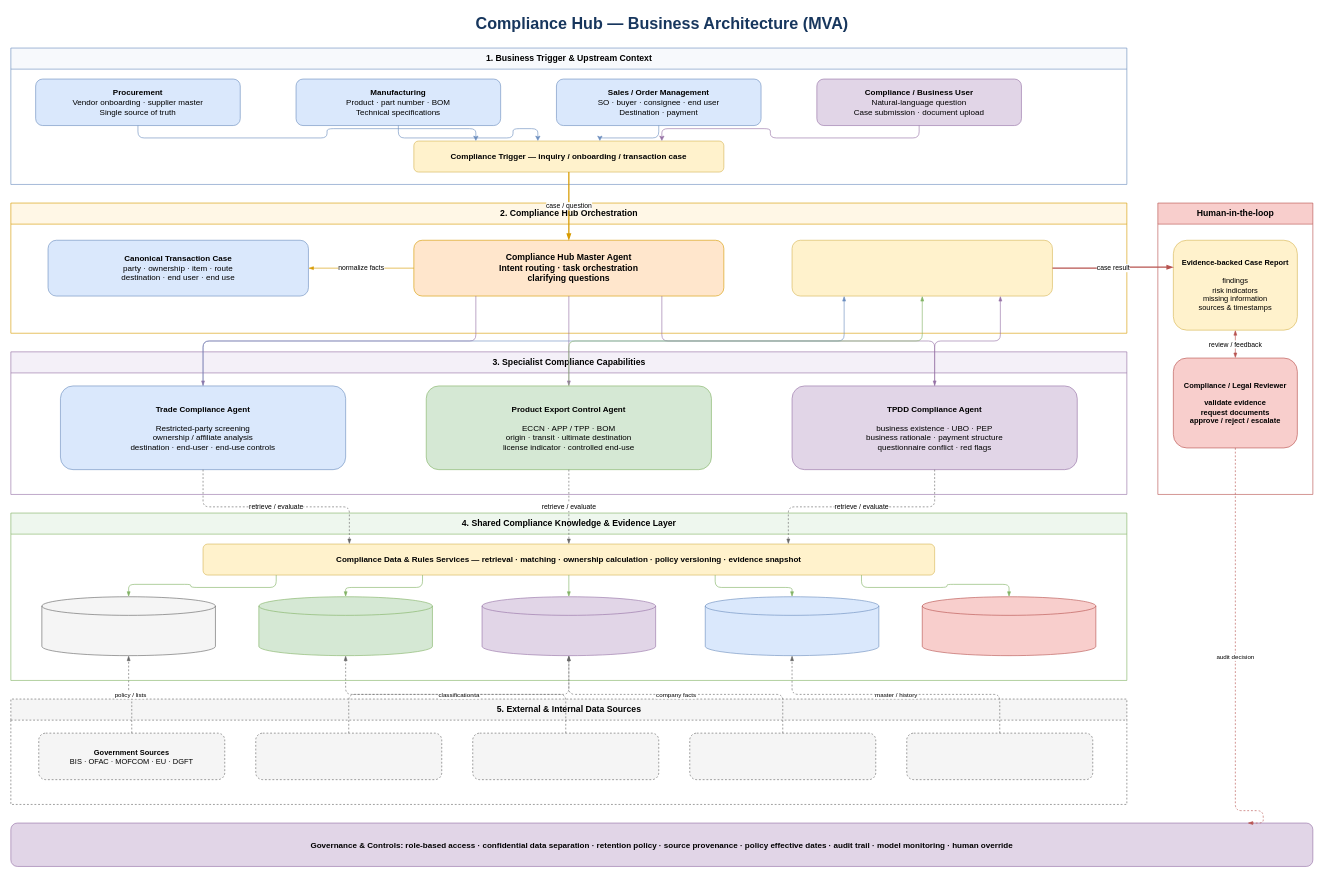
The diagram is 1324 pixels wide and 877 high, and some of its shapes have lost their labels. Here are the shapes that lost their labels. From the top down, the centre of each, then its label:
point (921, 268): Cross-domain Correlation combined risk · conflicts missing facts · escalation
point (128, 626): Restricted Party & Policy KB BIS · OFAC · country controls
point (345, 626): Product Classification part · ECCN · CCATS · APP/TPP · BOM
point (568, 626): Party & Ownership Graph legal entity · aliases · UBO · PEP
point (792, 626): Questionnaires & History answers · documents · prior reviews · expiry
point (1009, 626): Evidence & Decision Record source · effective date · snapshot · reviewer
point (348, 756): Commercial Compliance Data Dow Jones / licensed providers
point (565, 756): Manufacturer Data NVIDIA · AMD · Intel classification
point (782, 756): Company & Open Sources registries · websites · adverse media
point (999, 756): Internal Master Data ERP · CRM · vendor · BOM · prior cases
